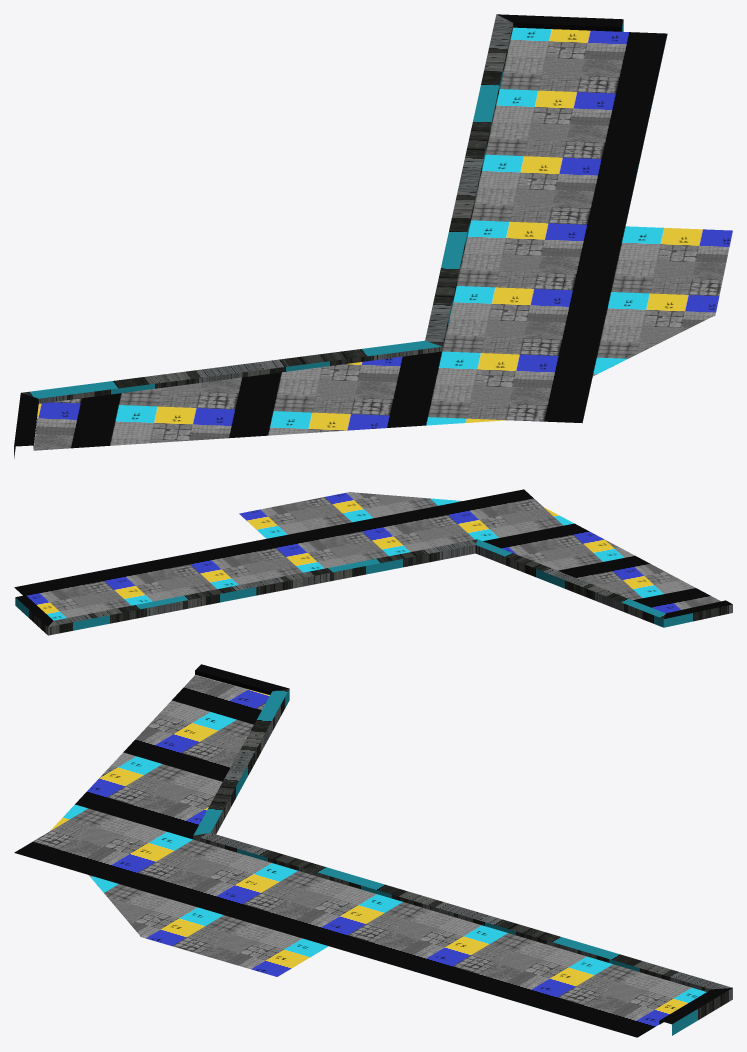
Rendered from chinatown_sidewalk_10.fbx.
3 renders of one model, top to bottom at view 1: azimuth 30°, elevation 25°; view 2: azimuth 150°, elevation 25°; view 3: azimuth 270°, elevation 25°, orthographic. The views are drawn at different scales.
Visible parts, largest first — view 1: chinatown_curb_10; view 2: chinatown_curb_10; view 3: chinatown_curb_10.
Boxes of the visible parts, box(x1,y1,x2,y2) form: chinatown_curb_10: box(14, 14, 732, 458); chinatown_curb_10: box(14, 489, 732, 635); chinatown_curb_10: box(14, 664, 732, 1037).
Bounding box in the file's own units: 1022 × 16.66 × 837.
